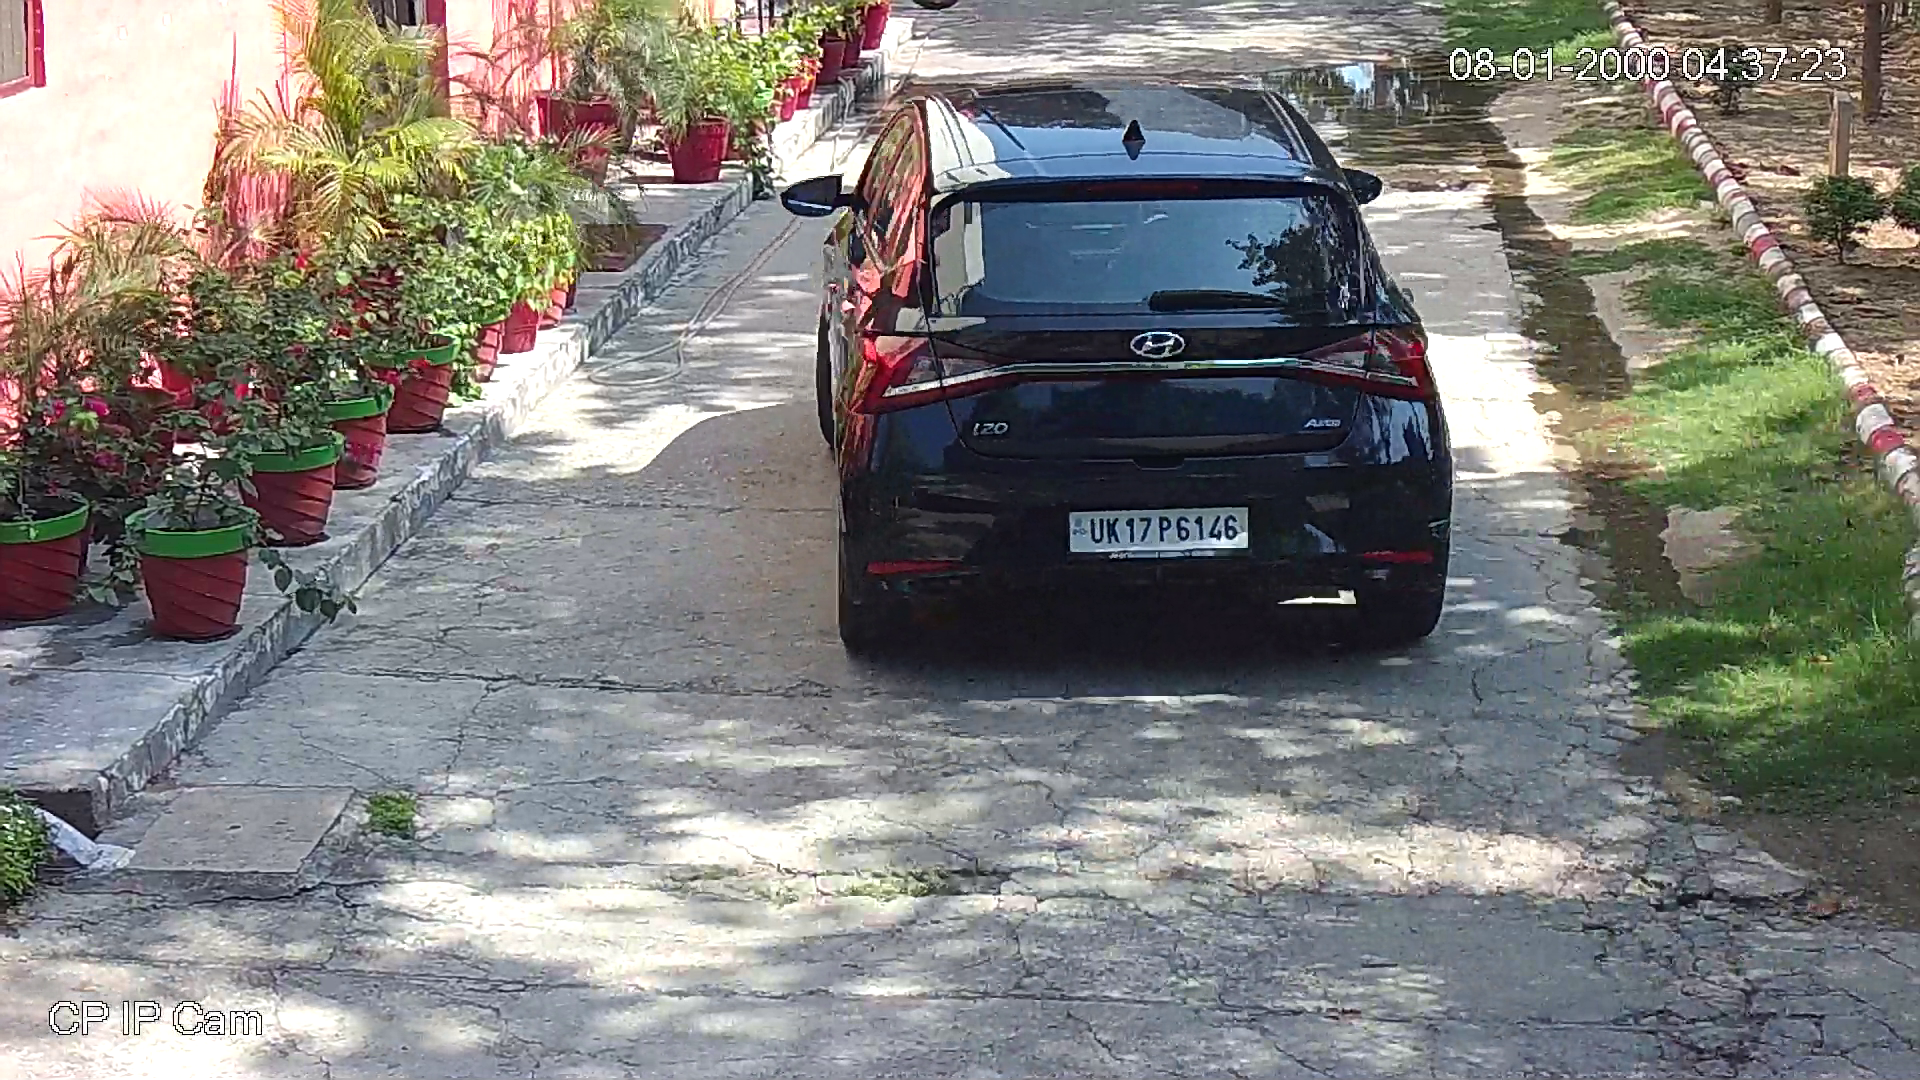plate: (1061, 496, 1259, 558)
